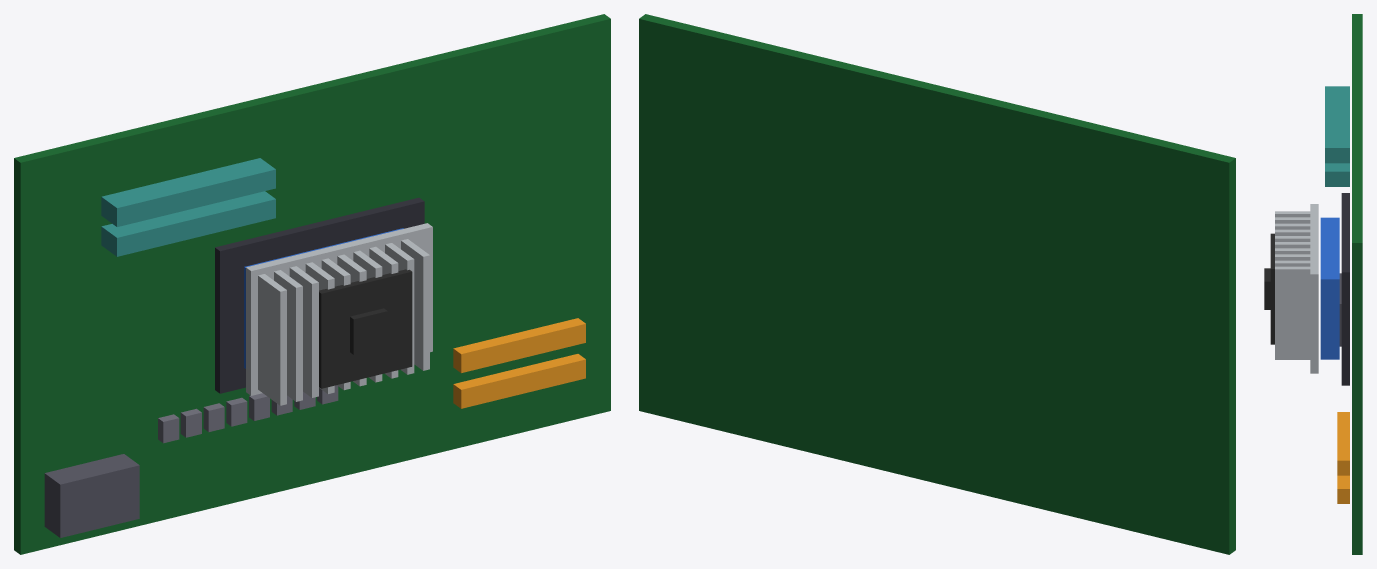
File: afo_hardware_system_3d.obj
The picture shows the model from 3 angles, left to right: view 1: azimuth 30°, elevation 25°; view 2: azimuth 150°, elevation 25°; view 3: azimuth 270°, elevation 25°; orthographic projection. The views are drawn at different scales.
Visible parts, largest first — view 1: main_board, chip_socket, fan_frame, psu_block, dram_mod1, dram_mod0, heatsink_base, cxl_slot0, cxl_slot1, fin_0, fin_2, fin_9 (+3 smaller); view 2: main_board; view 3: main_board, fin_9, afo_chip_pkg, dram_mod1, chip_socket, heatsink_base, cxl_slot1, dram_mod0, fan_frame, cxl_slot0, fan_hub, fin_1 (+9 smaller).
Part boxes in pixels (x1,y1,x2,y2): main_board: (14,14,610,554); chip_socket: (215,197,424,393); fan_frame: (319,269,412,388); psu_block: (44,454,139,537); dram_mod1: (101,158,275,226); dram_mod0: (101,191,275,256); heatsink_base: (246,223,432,395); cxl_slot0: (453,354,585,408); cxl_slot1: (453,318,585,373); fin_0: (258,274,286,405); fin_2: (289,266,318,397); fin_9: (401,239,429,370); main_board: (639,14,1235,554); main_board: (1352,14,1362,554); fin_9: (1275,266,1310,359); afo_chip_pkg: (1320,217,1339,359); dram_mod1: (1325,86,1349,163); chip_socket: (1341,193,1349,385); heatsink_base: (1310,204,1318,373); cxl_slot1: (1337,412,1349,475); dram_mod0: (1325,163,1349,186); fan_frame: (1270,233,1274,344); cxl_slot0: (1337,475,1349,503); fan_hub: (1264,268,1270,309); fin_1: (1275,217,1310,223).
Bounding box in the file's own units: 520 × 330 × 94.
